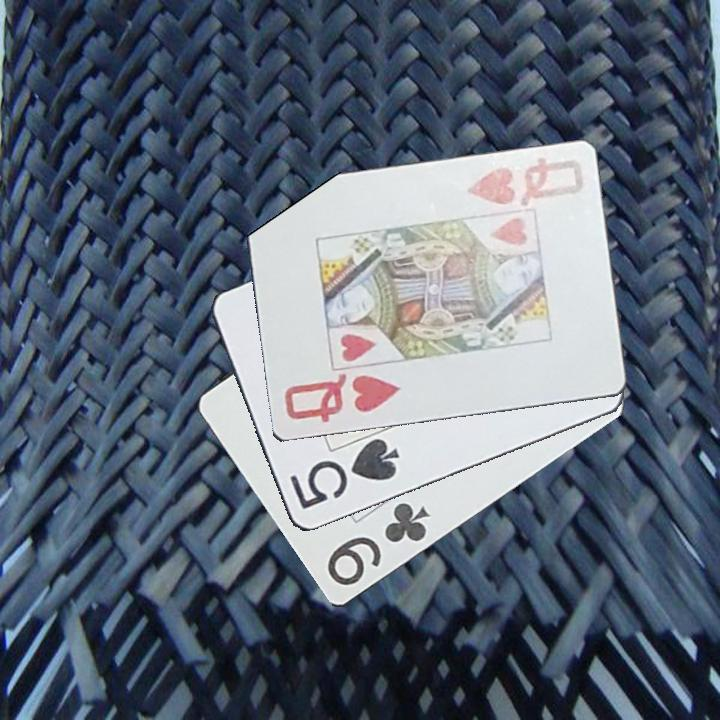5s: (286, 436, 403, 514)
9c: (323, 499, 433, 590)
Qh: (278, 370, 403, 429), (463, 155, 586, 210)
